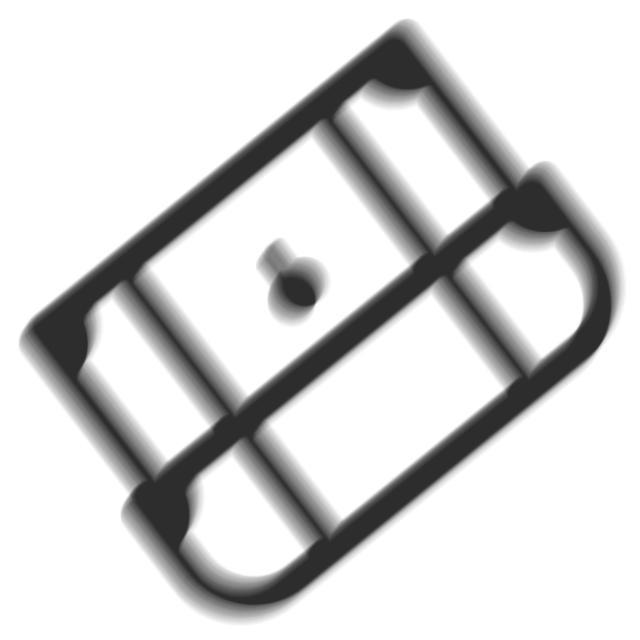treasure_box: (10, 11, 632, 636)
